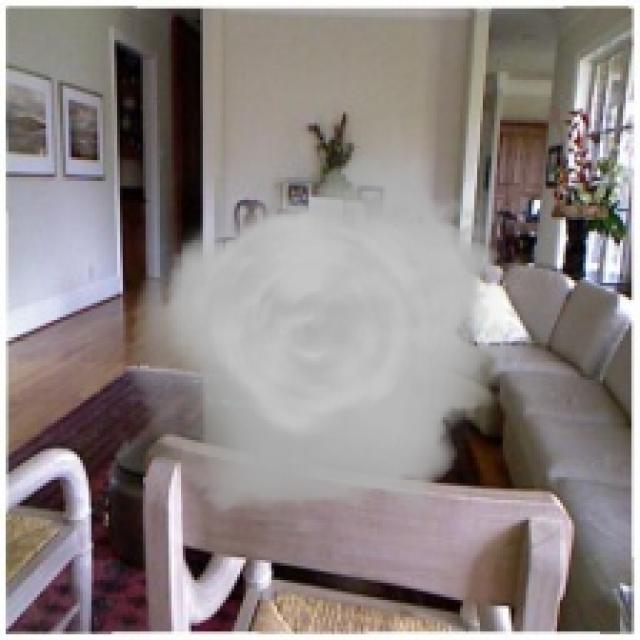smoke: (128, 143, 506, 531)
